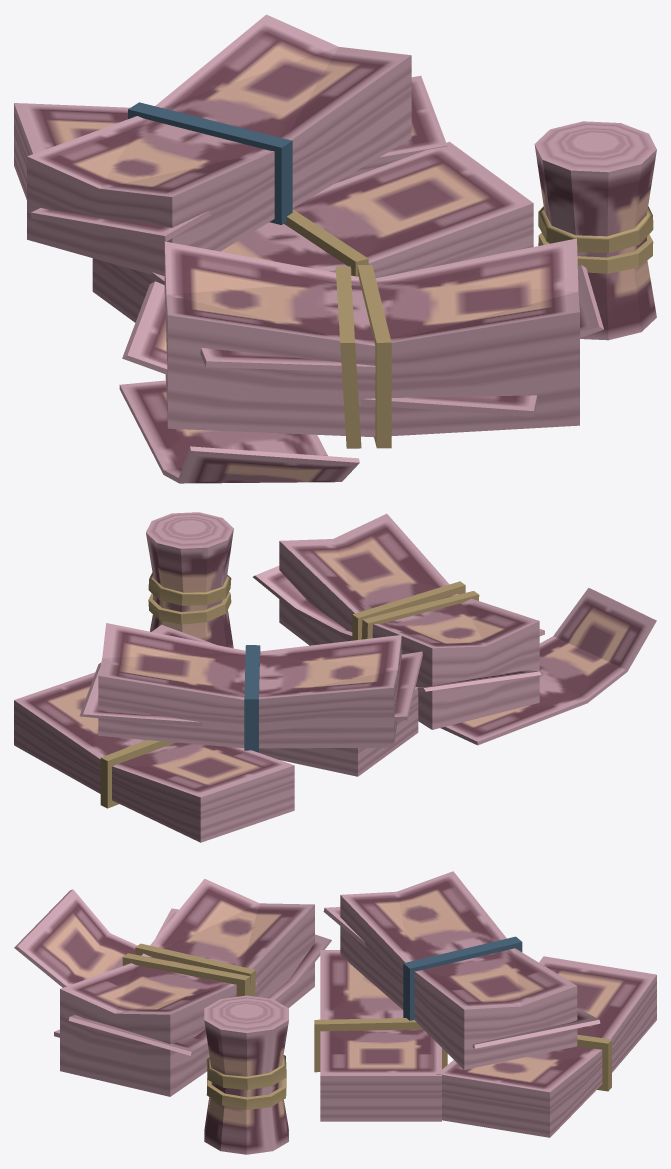
File: SM_Prop_Money_Stack_03.fbx
The picture shows the model from 3 angles, top to bottom: view 1: azimuth 30°, elevation 25°; view 2: azimuth 150°, elevation 25°; view 3: azimuth 270°, elevation 25°; orthographic projection. The views are drawn at different scales.
Parts seen in each view (by area): view 1: SM_Prop_Money_Stack_03; view 2: SM_Prop_Money_Stack_03; view 3: SM_Prop_Money_Stack_03.
Boxes of the visible parts, box(x1,y1,x2,y2) form: SM_Prop_Money_Stack_03: box(14, 14, 656, 483); SM_Prop_Money_Stack_03: box(14, 512, 656, 842); SM_Prop_Money_Stack_03: box(14, 871, 656, 1154).
Size of the model in its own units: 44.45 by 12.72 by 58.94.
